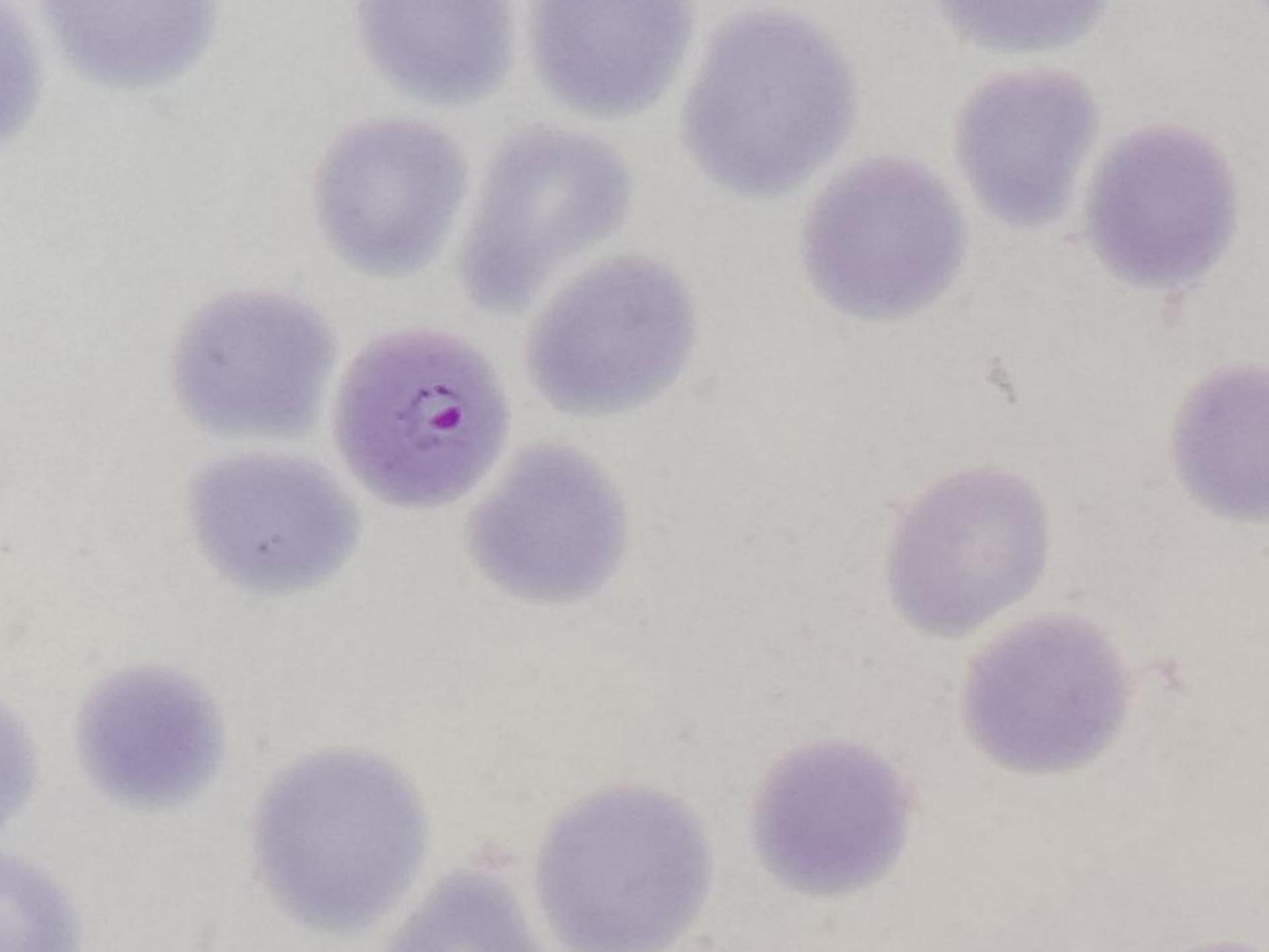Infected: (333, 325, 508, 503)
Uninfected: (463, 126, 635, 315), (260, 746, 425, 930), (684, 15, 852, 193), (539, 786, 713, 952), (887, 468, 1051, 636), (805, 159, 967, 323), (534, 251, 695, 414), (167, 294, 335, 442), (466, 445, 623, 602), (312, 124, 473, 274), (968, 615, 1123, 770), (192, 451, 364, 590), (1092, 126, 1240, 286), (759, 743, 909, 896), (957, 71, 1098, 229), (76, 668, 224, 808), (532, 0, 687, 121), (359, 0, 510, 99), (1173, 373, 1269, 517)
